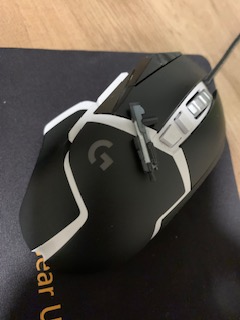rifle: (125, 101, 164, 182)
